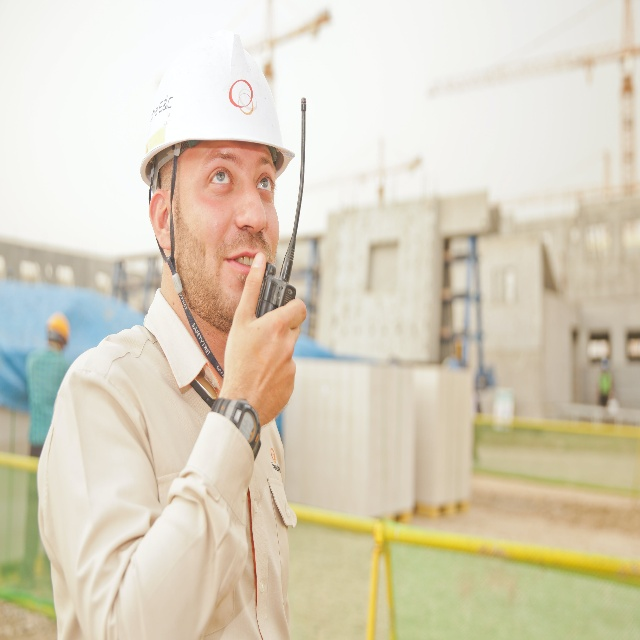Sin_guantes: (221, 247, 308, 427)
